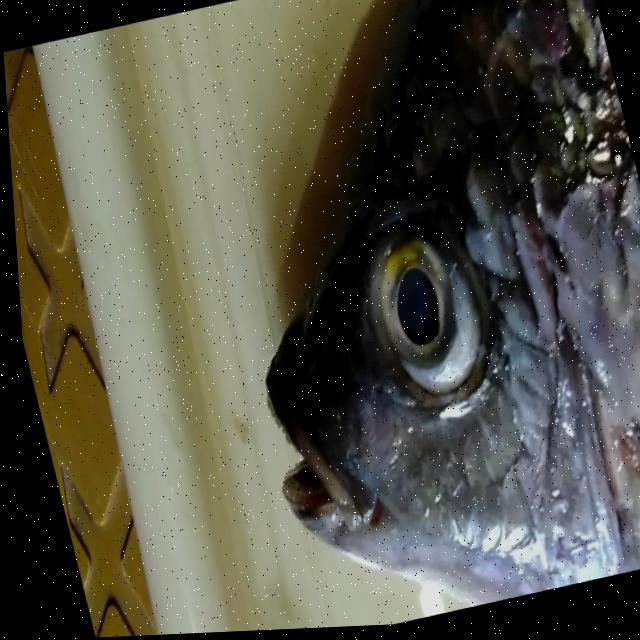Fresh: (313, 190, 532, 485)
